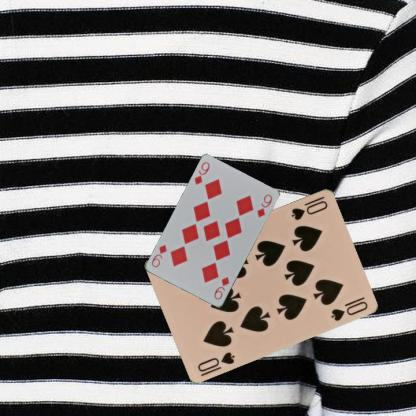10s: (288, 193, 330, 221), (196, 349, 236, 374)
9d: (192, 160, 211, 186), (212, 274, 230, 301)
